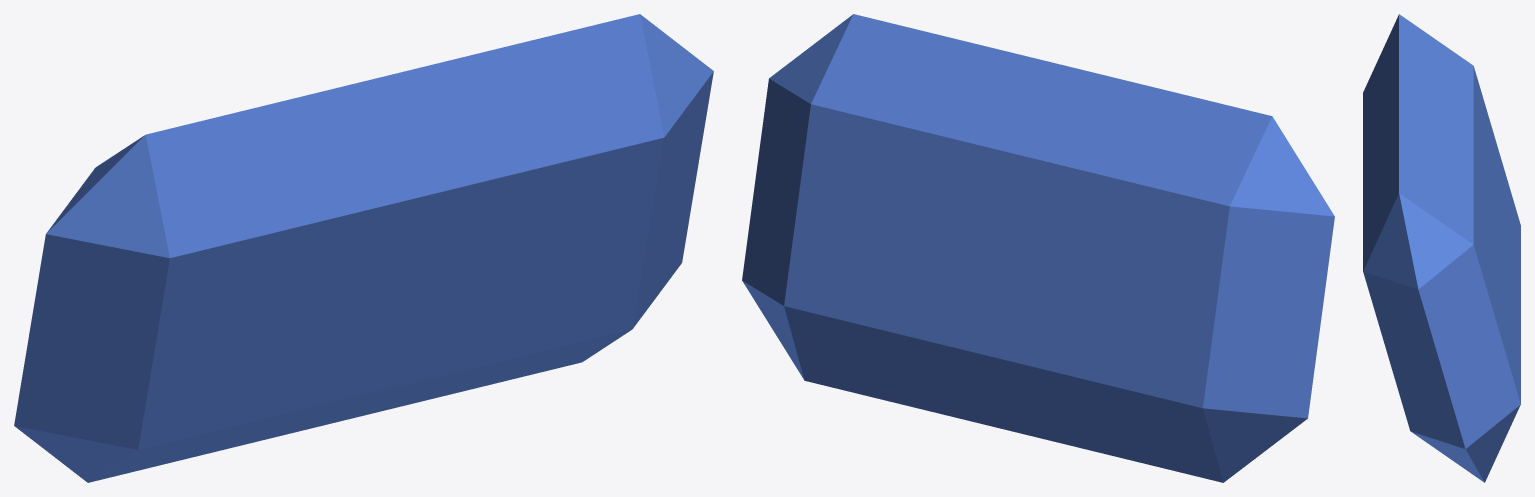
Rendered from pillowBlue.fbx.
3 renders of one model, left to right at view 1: azimuth 30°, elevation 25°; view 2: azimuth 150°, elevation 25°; view 3: azimuth 270°, elevation 25°, orthographic. The views are drawn at different scales.
Visible parts, largest first — view 1: pillowBlue; view 2: pillowBlue; view 3: pillowBlue.
Part boxes in pixels (x1,y1,x2,y2): pillowBlue: (14,14,713,482); pillowBlue: (742,14,1334,482); pillowBlue: (1363,14,1520,482).
Bounding box in the file's own units: 2.3 × 1.29 × 0.6339.
